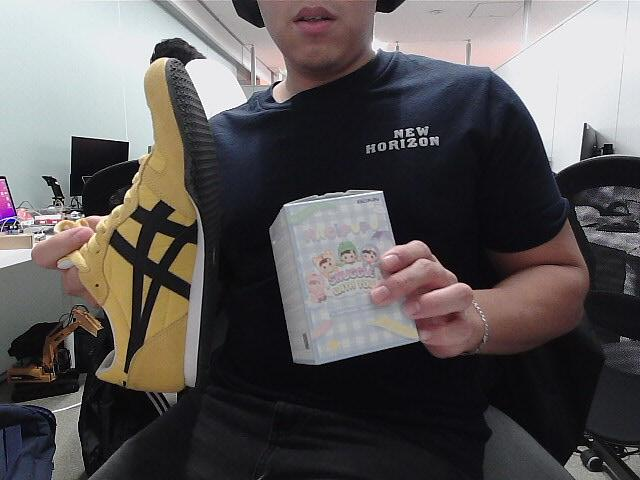Blind_box: (266, 190, 425, 372)
Shoes: (72, 52, 223, 398)
